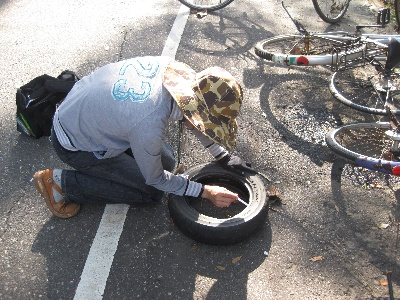tire: (170, 162, 269, 246)
